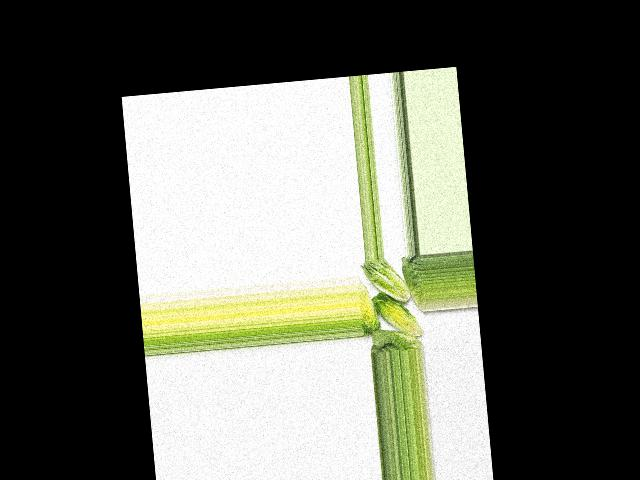lettuce: (368, 324, 422, 354)
